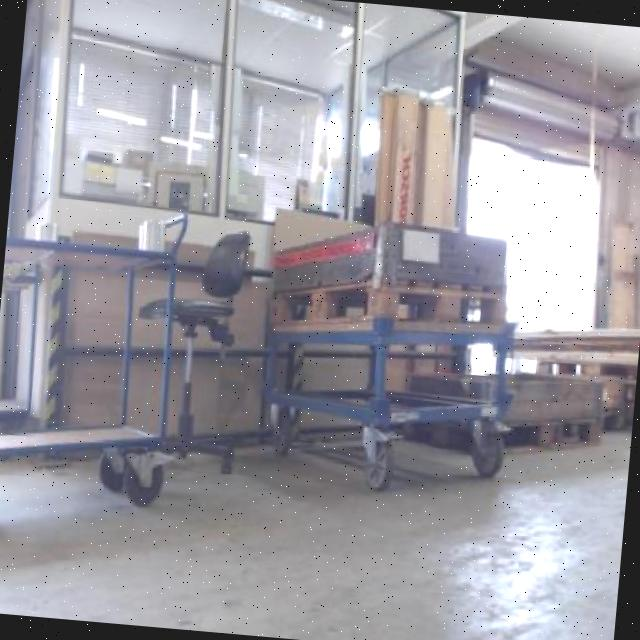pallet: (262, 258, 518, 360), (478, 401, 616, 470)
